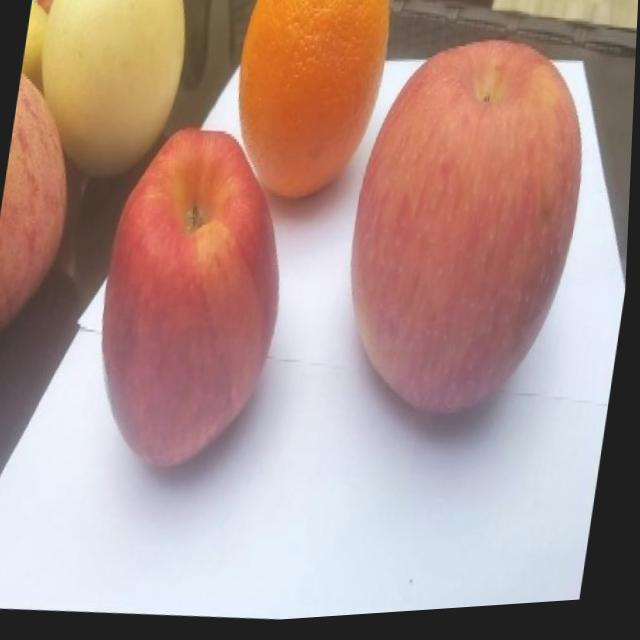Apple: (327, 26, 601, 444), (86, 118, 304, 488), (0, 63, 90, 346)
Orange: (221, 0, 394, 211)
